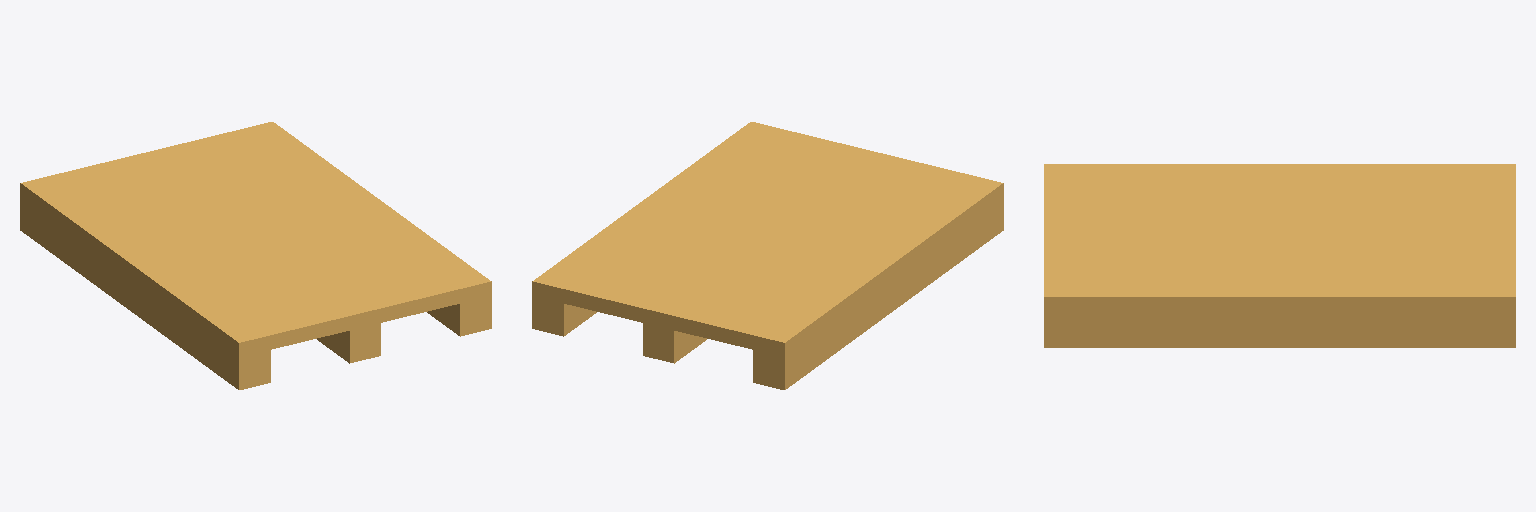
URDF robot description (pallet):
<?xml version="1.0" ?>
<robot name="pallet">

  <!-- Base link -->
  <link name="base_link">
    <contact>
      <lateral_friction value="1"/>
      <spinning_friction value="1"/>
    </contact>
    <inertial>
      <origin rpy="0 0 0" xyz="0 0 0"/>
      <mass value="1"/>
      <inertia ixx="0" ixy="0" ixz="0" iyy="0" iyz="0" izz="0"/>
    </inertial>
  </link>

  <!-- Cover -->
  <joint name="cover_joint" type="fixed">
    <origin rpy="0 0 0" xyz="0.4 0.6 -0.022"/> <!-- Shifted down, top at z=0 -->
    <parent link="base_link"/>
    <child link="cover_link"/>
  </joint>
  <link name="cover_link">
    <visual>
      <origin rpy="0 0 0" xyz="0.0 0.0 0.0"/> <!-- Centered at z=-0.05 -->
      <geometry>
        <box size="0.8 1.2 0.044"/>
      </geometry>
      <material name="wood">
        <color rgba="0.937 0.753 0.439 1"/>
      </material>
    </visual>
    <contact>
      <lateral_friction value="0.9"/>
      <spinning_friction value="0.9"/>
    </contact>
    <inertial>
      <origin rpy="0 0 0" xyz="0 0 0"/>
      <mass value="3.0"/>
      <inertia ixx="0" ixy="0" ixz="0" iyy="0" iyz="0" izz="0"/>
    </inertial>
    <collision>
      <origin rpy="0 0 0" xyz="0.0 0.0 0.0"/> <!-- Centered at z=-0.05 -->
      <geometry>
        <box size="0.8 1.2 0.044"/>
      </geometry>
    </collision>
  </link>

  <!-- Left foot -->
  <joint name="left_foot_joint" type="fixed">
    <origin rpy="0 0 0" xyz="0.05 0.6 -0.094"/> <!-- Foot supports the cover -->
    <parent link="base_link"/>
    <child link="left_foot_link"/>
  </joint>
  <link name="left_foot_link">
    <visual>
      <origin rpy="0 0 0" xyz="0.0 0.0 0.0"/> <!-- Centered under the cover -->
      <geometry>
        <box size="0.1 1.2 0.1"/>
      </geometry>
      <material name="wood">
        <color rgba="0.937 0.753 0.439 1"/>
      </material>
    </visual>
    <inertial>
      <origin rpy="0 0 0" xyz="0 0 0"/>
      <mass value="0.5"/>
      <inertia ixx="0" ixy="0" ixz="0" iyy="0" iyz="0" izz="0"/>
    </inertial>
    <collision>
      <origin rpy="0 0 0" xyz="0.00 0.0 0.0"/> <!-- Centered under the cover -->
      <geometry>
        <box size="0.1 1.2 0.078"/>
      </geometry>
    </collision>
  </link>

  <!-- Central foot -->
  <joint name="central_foot_joint" type="fixed">
    <origin rpy="0 0 0" xyz="0.4 0.6 -0.094"/> <!-- Foot supports the cover -->
    <parent link="base_link"/>
    <child link="central_foot_link"/>
  </joint>
  <link name="central_foot_link">
    <visual>
      <origin rpy="0 0 0" xyz="0.0 0.0 0.0"/> <!-- Centered under the cover -->
      <geometry>
        <box size="0.1 1.2 0.1"/>
      </geometry>
      <material name="wood">
        <color rgba="0.937 0.753 0.439 1"/>
      </material>
    </visual>
    <inertial>
      <origin rpy="0 0 0" xyz="0 0 0"/>
      <mass value="0.5"/>
      <inertia ixx="0" ixy="0" ixz="0" iyy="0" iyz="0" izz="0"/>
    </inertial>
    <collision>
      <origin rpy="0 0 0" xyz="0.0 0.0 0.0"/> <!-- Centered under the cover -->
      <geometry>
        <box size="0.1 1.2 0.078"/>
      </geometry>
    </collision>
  </link>

  <!-- Right foot -->
  <joint name="right_foot_joint" type="fixed">
    <origin rpy="0 0 0" xyz="0.75 0.6 -0.094"/> <!-- Foot supports the cover -->
    <parent link="base_link"/>
    <child link="right_foot_link"/>
  </joint>
  <link name="right_foot_link">
    <visual>
      <origin rpy="0 0 0" xyz="0.0 0.0 0.0"/> <!-- Centered under the cover -->
      <geometry>
        <box size="0.1 1.2 0.1"/>
      </geometry>
      <material name="wood">
        <color rgba="0.937 0.753 0.439 1"/>
      </material>
    </visual>
    <inertial>
      <origin rpy="0 0 0" xyz="0 0 0"/>
      <mass value="0.5"/>
      <inertia ixx="0" ixy="0" ixz="0" iyy="0" iyz="0" izz="0"/>
    </inertial>
    <collision>
      <origin rpy="0 0 0" xyz="0.0 0.0 0.0"/> <!-- Centered under the cover -->
      <geometry>
        <box size="0.1 1.2 0.078"/>
      </geometry>
    </collision>
  </link>

</robot>

--- What the picture shows (computed from the rendered views, not written in the file) ---
3 views of the same robot in one strip: view 1: azimuth 30°, elevation 25°; view 2: azimuth 150°, elevation 25°; view 3: azimuth 270°, elevation 25° (orthographic).
Robot: pallet — 5 links, 4 joints (4 fixed); root link base_link; default pose: every joint at zero.
Visible links, largest first — view 1: cover_link, left_foot_link, right_foot_link, central_foot_link; view 2: cover_link, left_foot_link, right_foot_link, central_foot_link; view 3: cover_link, right_foot_link.
Boxes of the visible links, x1,y1,x2,y2 form: cover_link: [20, 122, 491, 356]; left_foot_link: [20, 198, 270, 389]; right_foot_link: [427, 296, 491, 336]; central_foot_link: [317, 323, 380, 363]; cover_link: [532, 122, 1003, 356]; left_foot_link: [753, 198, 1003, 389]; right_foot_link: [532, 296, 596, 336]; central_foot_link: [643, 323, 706, 363]; cover_link: [1044, 164, 1515, 311]; right_foot_link: [1044, 312, 1515, 347].
Size in the robot's own frame: 0.8 by 1.2 by 0.144 metres.
Geometry: primitives only (box / cylinder / sphere), no mesh files.